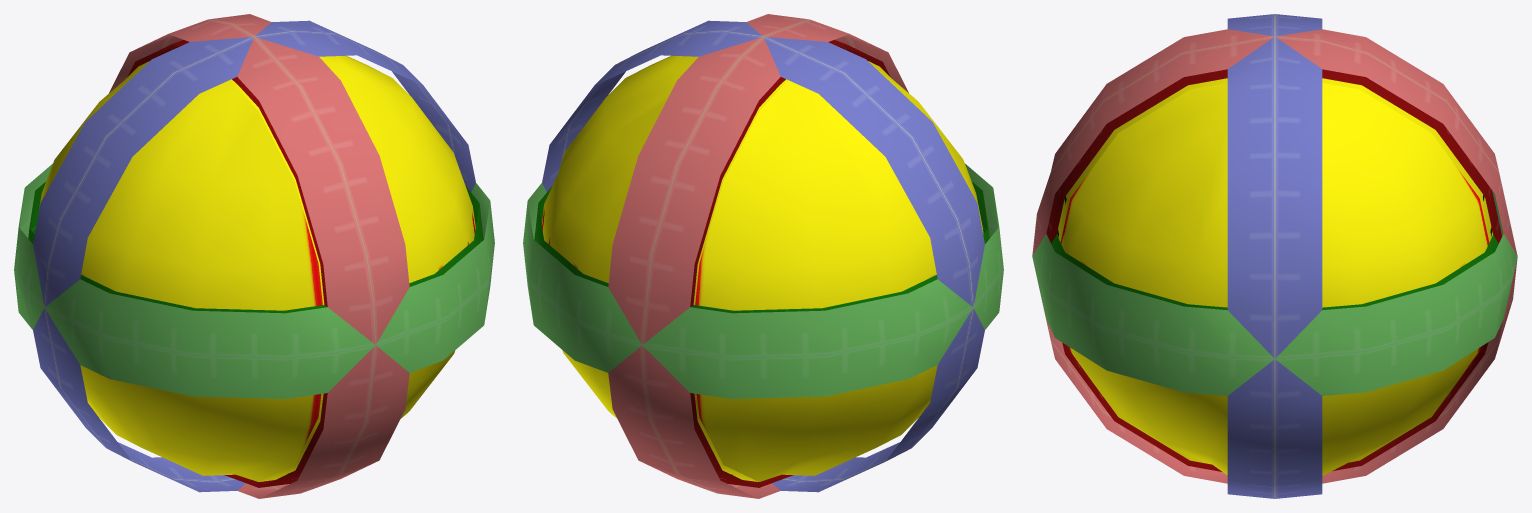
Rendered from OBJ_HARRY_gyroAid_01_A.fbx.
3 views of the same model, side by side, from view 1: azimuth 30°, elevation 25°; view 2: azimuth 150°, elevation 25°; view 3: azimuth 270°, elevation 25° (orthographic).
Parts seen in each view (by area): view 1: World_Sphere, GyroAid_Yaw, GyroAid_PitchMaster, GyroAid_YawMaster, GyroAid_Pitch; view 2: World_Sphere, GyroAid_Yaw, GyroAid_PitchMaster, GyroAid_YawMaster, GyroAid_Pitch; view 3: World_Sphere, GyroAid_Yaw, GyroAid_PitchMaster, GyroAid_Pitch, GyroAid_YawMaster.
Part boxes in pixels (<box>): World_Sphere: <box>14,14,494,498</box>; GyroAid_Yaw: <box>39,55,475,481</box>; GyroAid_PitchMaster: <box>127,40,327,487</box>; GyroAid_YawMaster: <box>28,182,483,313</box>; GyroAid_Pitch: <box>230,79,324,481</box>; World_Sphere: <box>523,14,1003,498</box>; GyroAid_Yaw: <box>542,55,983,481</box>; GyroAid_PitchMaster: <box>690,40,890,487</box>; GyroAid_YawMaster: <box>534,181,989,313</box>; GyroAid_Pitch: <box>693,79,787,481</box>; World_Sphere: <box>1032,14,1517,498</box>; GyroAid_Yaw: <box>1060,83,1489,475</box>; GyroAid_PitchMaster: <box>1046,69,1502,471</box>; GyroAid_Pitch: <box>1057,78,1492,242</box>; GyroAid_YawMaster: <box>1051,235,1498,310</box>.
Size of the model in its own units: 2.15 by 2.15 by 2.15.
Materials: 2 (2 with a texture image).
